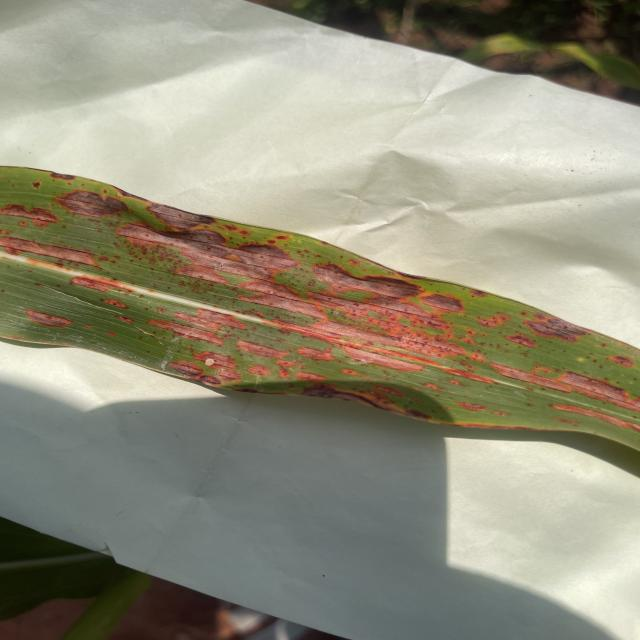millet_rust: (4, 164, 640, 458)
